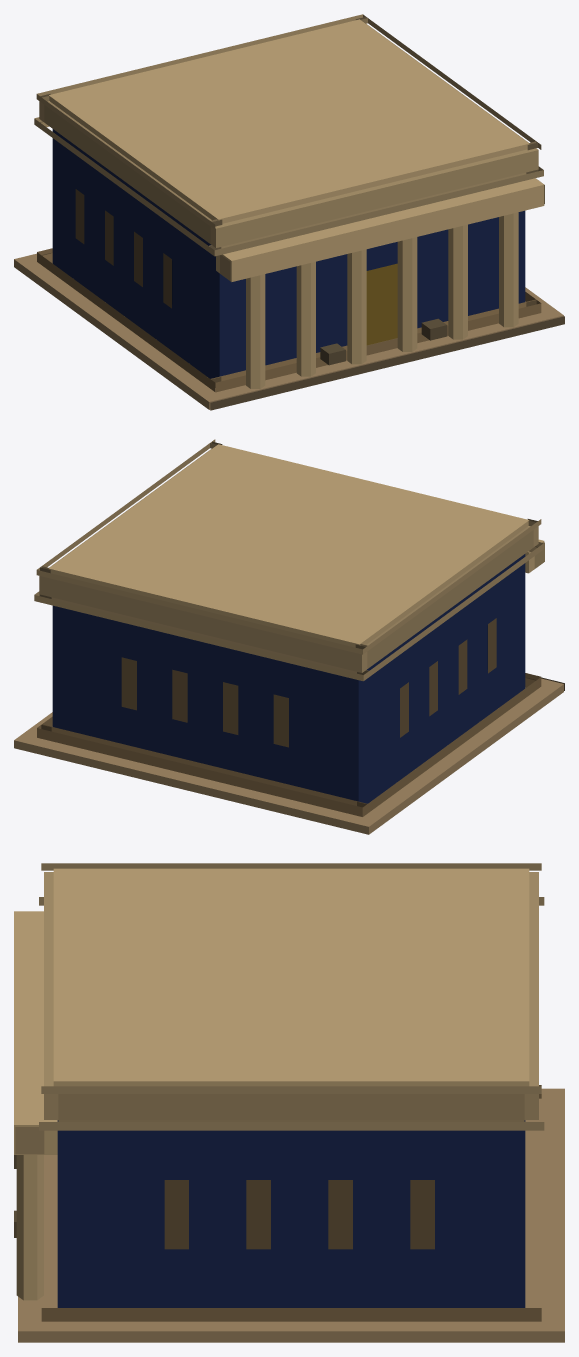
The model's file is EgyptianSarcophagusSil.fbx.
3 views of the same model, one above another, from view 1: azimuth 30°, elevation 25°; view 2: azimuth 150°, elevation 25°; view 3: azimuth 270°, elevation 25° (orthographic). The views are drawn at different scales.
Parts seen in each view (by area): view 1: LX_S_All; view 2: LX_S_All; view 3: LX_S_All.
Boxes of the visible parts, x1,y1,x2,y2 form: LX_S_All: (14, 14, 564, 410); LX_S_All: (14, 439, 564, 834); LX_S_All: (14, 863, 564, 1342).
Bounding box in the file's own units: 42.04 × 19.9 × 40.34.
